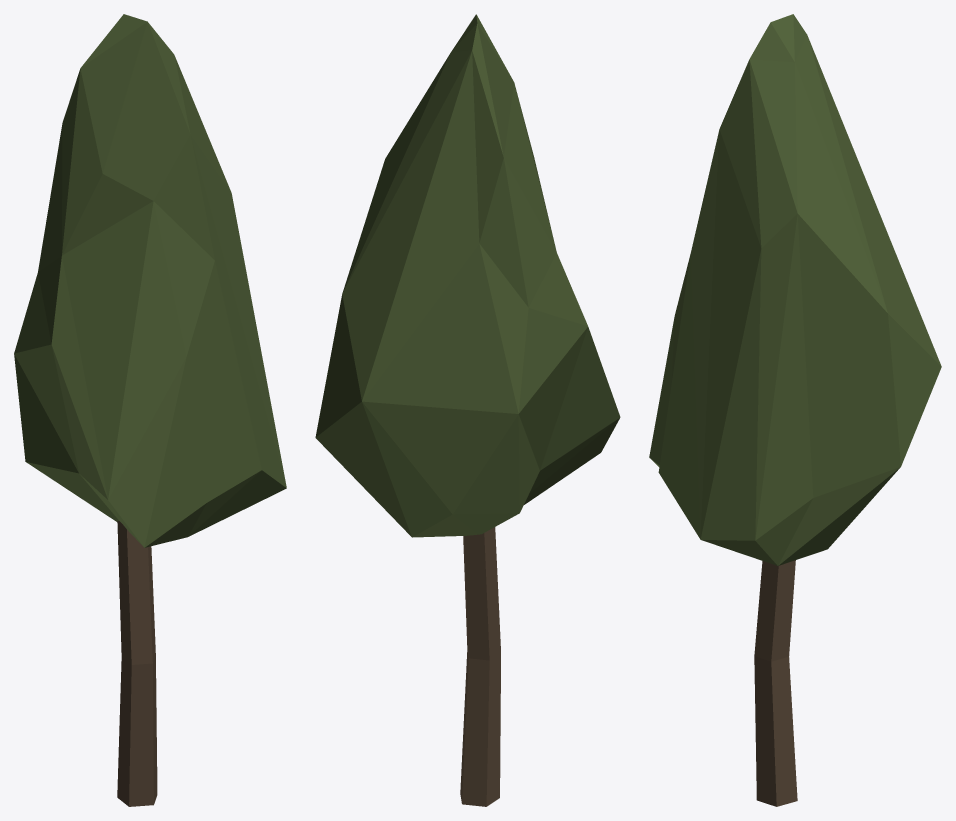
The model's file is Tree_044.fbx.
3 renders of one model, left to right at view 1: azimuth 30°, elevation 25°; view 2: azimuth 150°, elevation 25°; view 3: azimuth 270°, elevation 25°, orthographic.
Parts seen in each view (by area): view 1: Tree_044; view 2: Tree_044; view 3: Tree_044.
Part boxes in pixels (box(x1,y1,x2,y2)): Tree_044: box(14, 14, 286, 806); Tree_044: box(315, 14, 620, 806); Tree_044: box(649, 14, 941, 806).
Size of the model in its own units: 0.4537 by 1.5 by 0.5081.
Materials: 1 (1 with a texture image).
